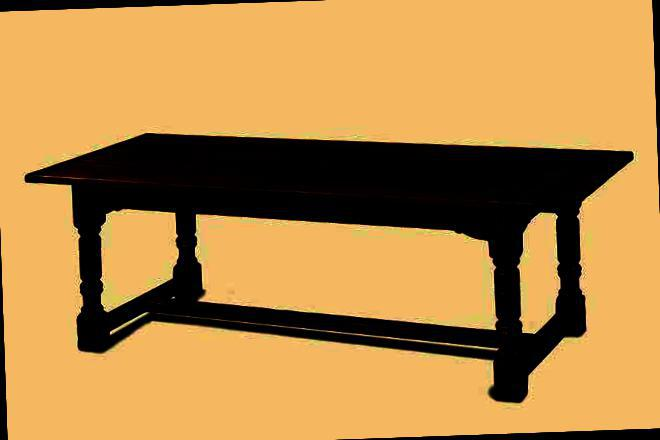Mesa: (27, 120, 643, 424)
